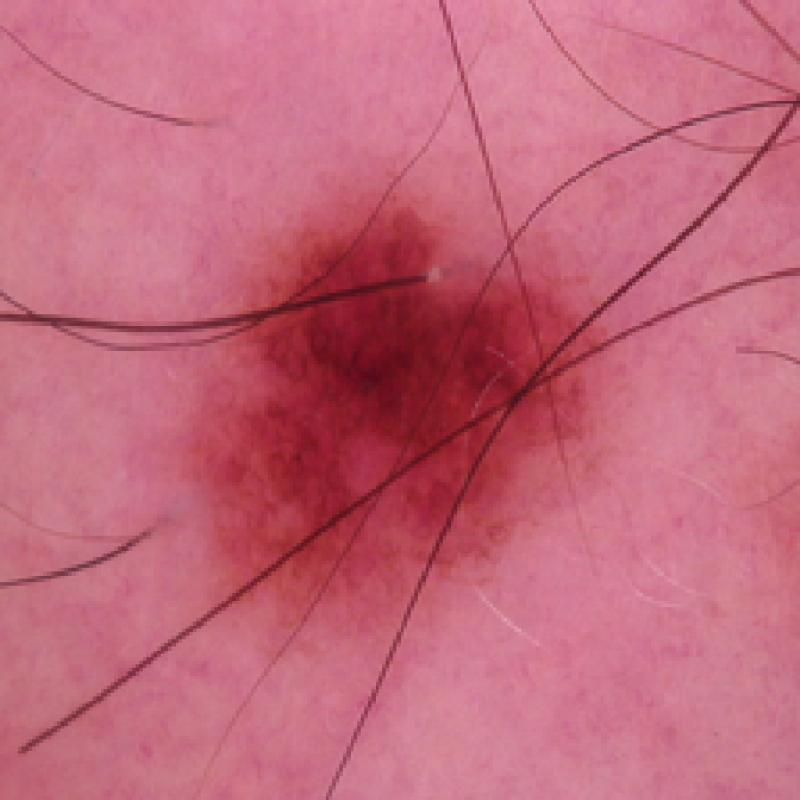benign: (190, 194, 616, 648)
